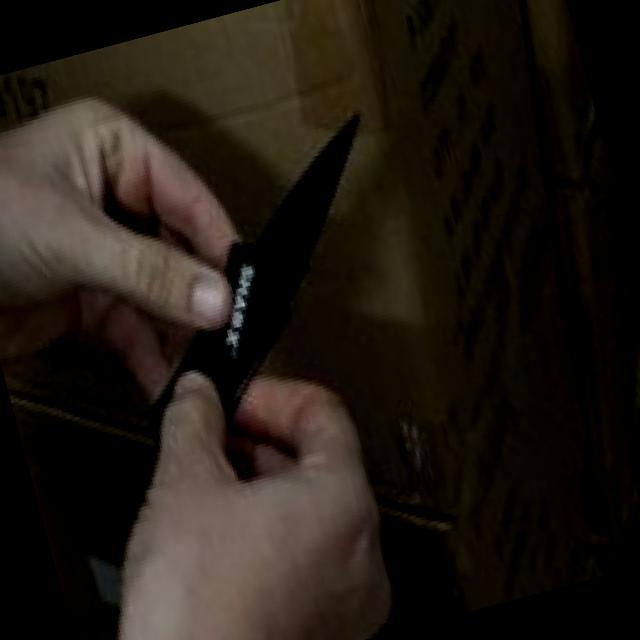knife: (104, 89, 442, 453)
